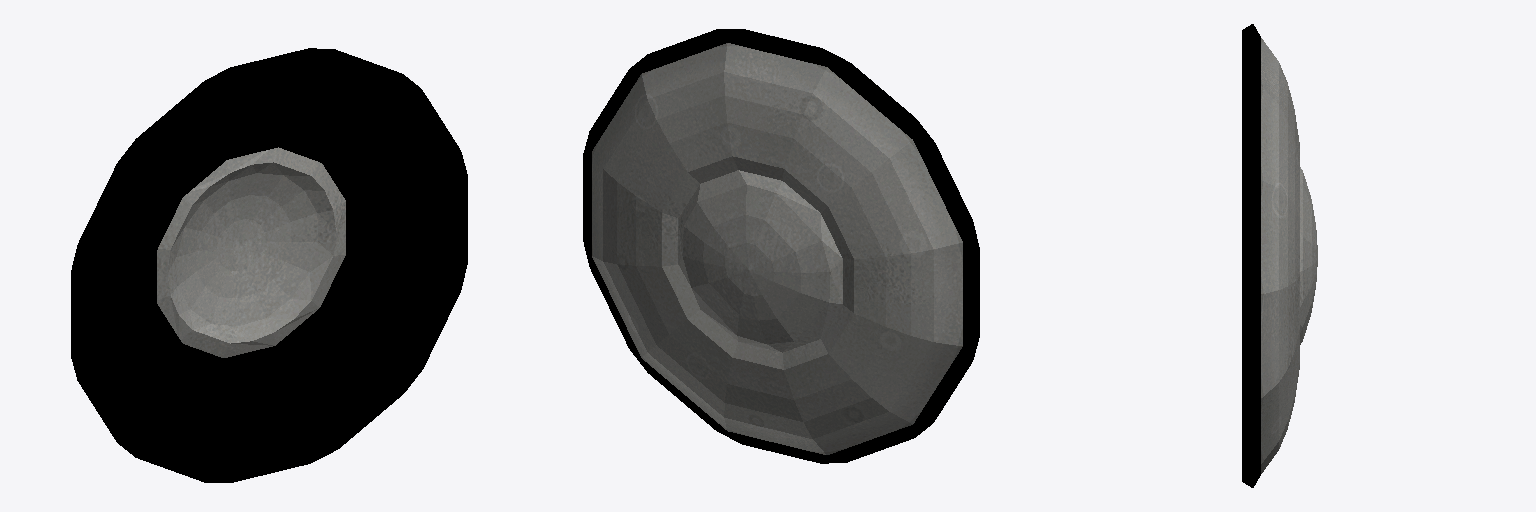
3 renders of one model, left to right at view 1: azimuth 30°, elevation 25°; view 2: azimuth 150°, elevation 25°; view 3: azimuth 270°, elevation 25°, orthographic.
Visible parts, largest first — view 1: glass_frosted, mtl_nt_2020_kitchen_light_glass_off, nt_2020_metal_chrome; view 2: mtl_nt_2020_kitchen_light_glass_off, nt_2020_metal_chrome; view 3: mtl_nt_2020_kitchen_light_glass_off, nt_2020_metal_chrome, glass_frosted.
Part boxes in pixels (bbox=[...]): glass_frosted: bbox=[76, 54, 467, 481]; mtl_nt_2020_kitchen_light_glass_off: bbox=[157, 147, 345, 357]; nt_2020_metal_chrome: bbox=[71, 48, 467, 482]; mtl_nt_2020_kitchen_light_glass_off: bbox=[592, 43, 962, 454]; nt_2020_metal_chrome: bbox=[583, 29, 979, 463]; mtl_nt_2020_kitchen_light_glass_off: bbox=[1261, 38, 1317, 473]; nt_2020_metal_chrome: bbox=[1247, 24, 1260, 487]; glass_frosted: bbox=[1242, 27, 1246, 484].
Size of the model in its own units: 401 by 401 by 66.84.
Materials: 3 (1 with a texture image).